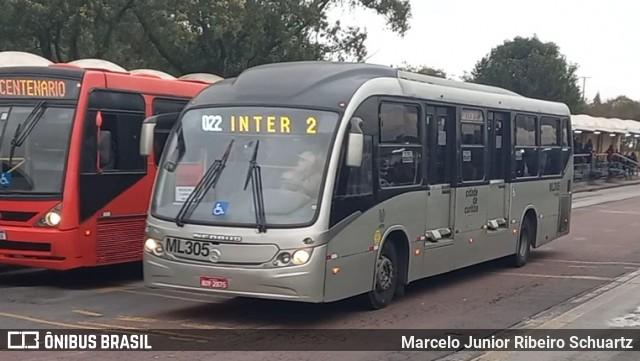CENTENARIO: (0, 76, 66, 99)
INTER2: (226, 113, 318, 136)
